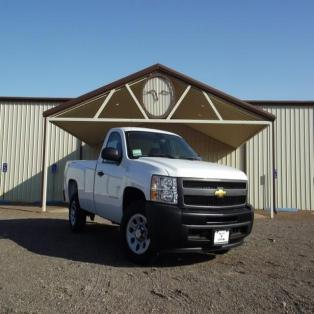Auto: (62, 126, 254, 266)
